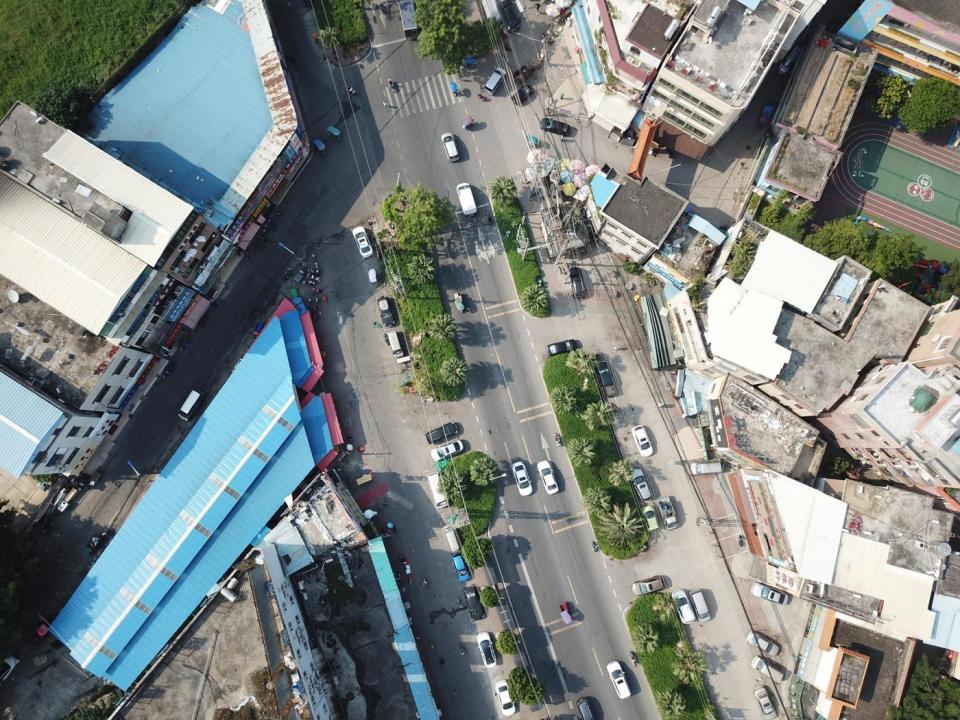bus: (398, 0, 419, 40)
car: (606, 660, 632, 700), (750, 581, 788, 606), (745, 630, 780, 656), (753, 684, 777, 720), (672, 590, 696, 625), (537, 460, 559, 495), (511, 461, 533, 496), (425, 421, 458, 444), (495, 680, 516, 716), (631, 424, 653, 458), (430, 439, 464, 461), (477, 631, 497, 668), (463, 586, 484, 621), (630, 468, 652, 501), (631, 575, 665, 596), (352, 226, 373, 258), (0, 652, 20, 684), (450, 551, 470, 582), (546, 338, 578, 357), (440, 132, 460, 162), (376, 296, 395, 327), (539, 118, 570, 136), (568, 268, 586, 298), (640, 505, 659, 532), (511, 84, 533, 106), (576, 696, 595, 720)
truck: (595, 361, 617, 397), (657, 495, 678, 530)
van: (178, 387, 205, 422), (751, 656, 784, 684), (455, 182, 478, 218), (427, 471, 449, 508), (689, 588, 711, 624), (483, 67, 506, 96), (443, 522, 459, 552), (387, 330, 404, 358), (691, 462, 722, 475)
